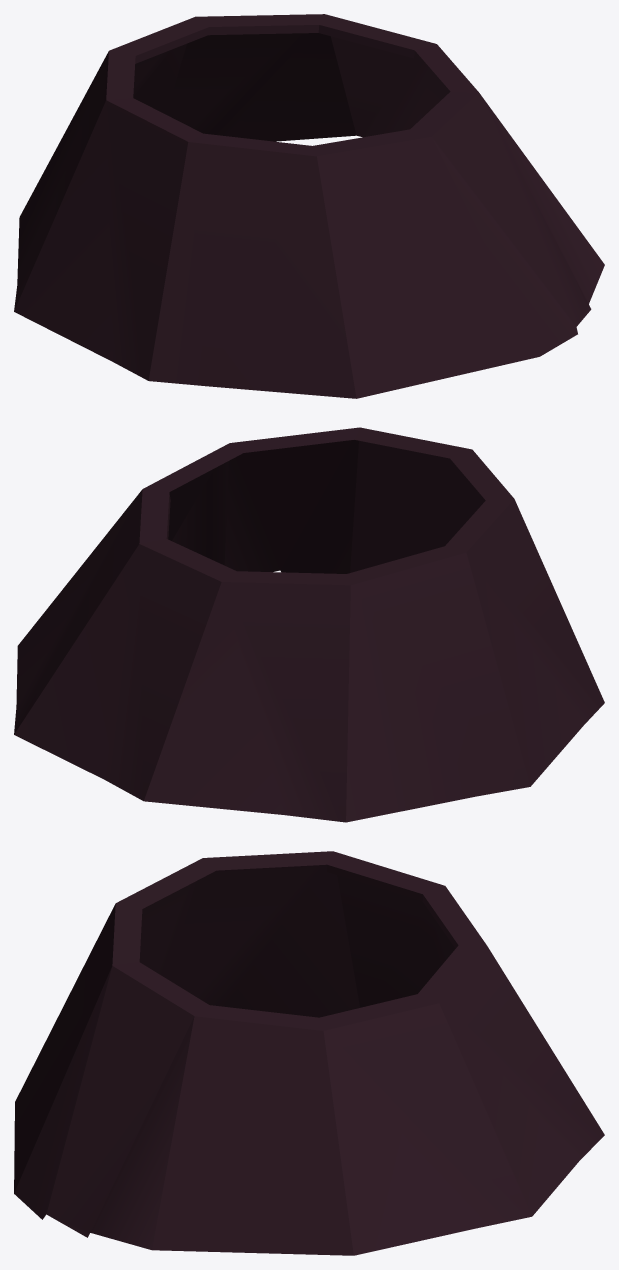
Rendered from Geiser.fbx.
The picture shows the model from 3 angles, top to bottom: view 1: azimuth 30°, elevation 25°; view 2: azimuth 150°, elevation 25°; view 3: azimuth 270°, elevation 25°; orthographic projection.
Parts seen in each view (by area): view 1: Geiser; view 2: Geiser; view 3: Geiser.
Boxes of the visible parts, x1,y1,x2,y2 form: Geiser: [14, 14, 604, 398]; Geiser: [14, 427, 604, 822]; Geiser: [14, 851, 604, 1255].
Size of the model in its own units: 73.8 by 28.87 by 73.41.
